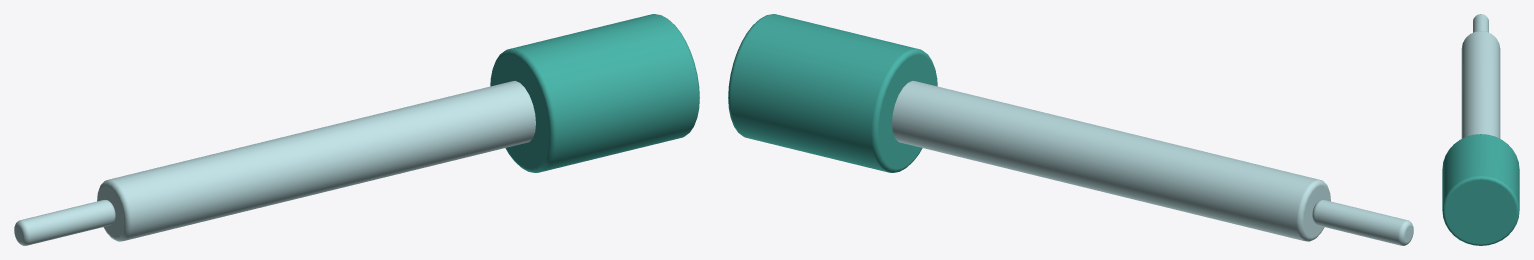
Rendered from BIO_Dropper.fbx.
3 views of the same model, side by side, from view 1: azimuth 30°, elevation 25°; view 2: azimuth 150°, elevation 25°; view 3: azimuth 270°, elevation 25° (orthographic). The views are drawn at different scales.
Parts seen in each view (by area): view 1: Pipette, Bulb, Tip; view 2: Pipette, Bulb, Tip; view 3: Bulb, Pipette, Tip.
Boxes of the visible parts, x1,y1,x2,y2 form: Pipette: [97, 81, 535, 241]; Bulb: [490, 14, 699, 172]; Tip: [14, 200, 115, 245]; Pipette: [892, 81, 1330, 241]; Bulb: [728, 14, 937, 172]; Tip: [1312, 200, 1413, 245]; Bulb: [1442, 134, 1519, 245]; Pipette: [1461, 31, 1500, 138]; Tip: [1473, 14, 1488, 32].
Size of the model in its own units: 28.25 by 4.8 by 4.8.
